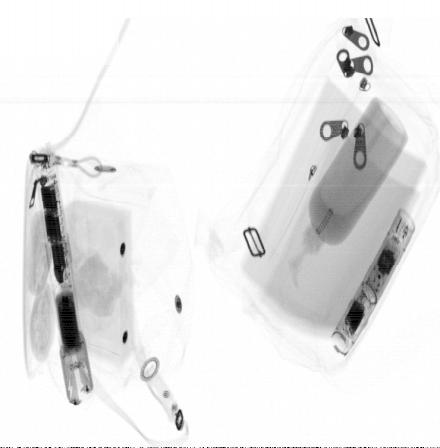Baton: (34, 158, 94, 409), (330, 207, 416, 358)
